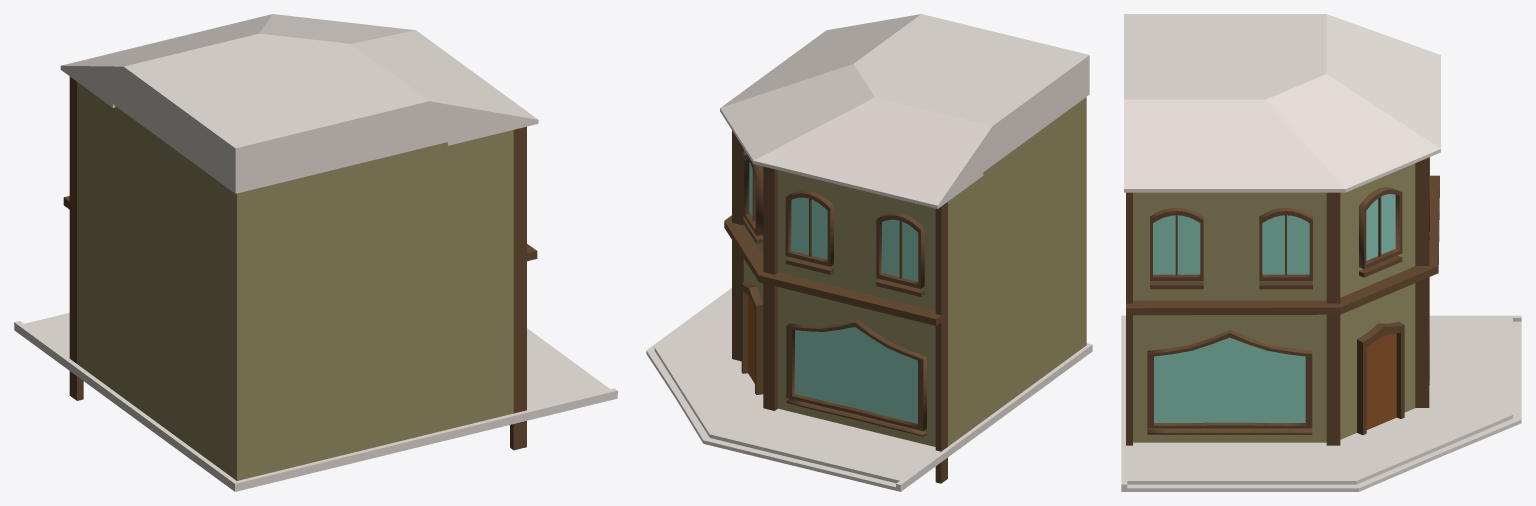
Rendered from cornerapartment.dae.
3 views of the same model, side by side, from view 1: azimuth 30°, elevation 25°; view 2: azimuth 150°, elevation 25°; view 3: azimuth 270°, elevation 25° (orthographic). The views are drawn at different scales.
Parts seen in each view (by area): view 1: Cube_047; view 2: Cube_047; view 3: Cube_047.
Part boxes in pixels (bbox=[...]): Cube_047: bbox=[14, 14, 617, 491]; Cube_047: bbox=[646, 14, 1092, 491]; Cube_047: bbox=[1121, 14, 1521, 491].
Size of the model in its own units: 65.01 by 65.01 by 60.2.
